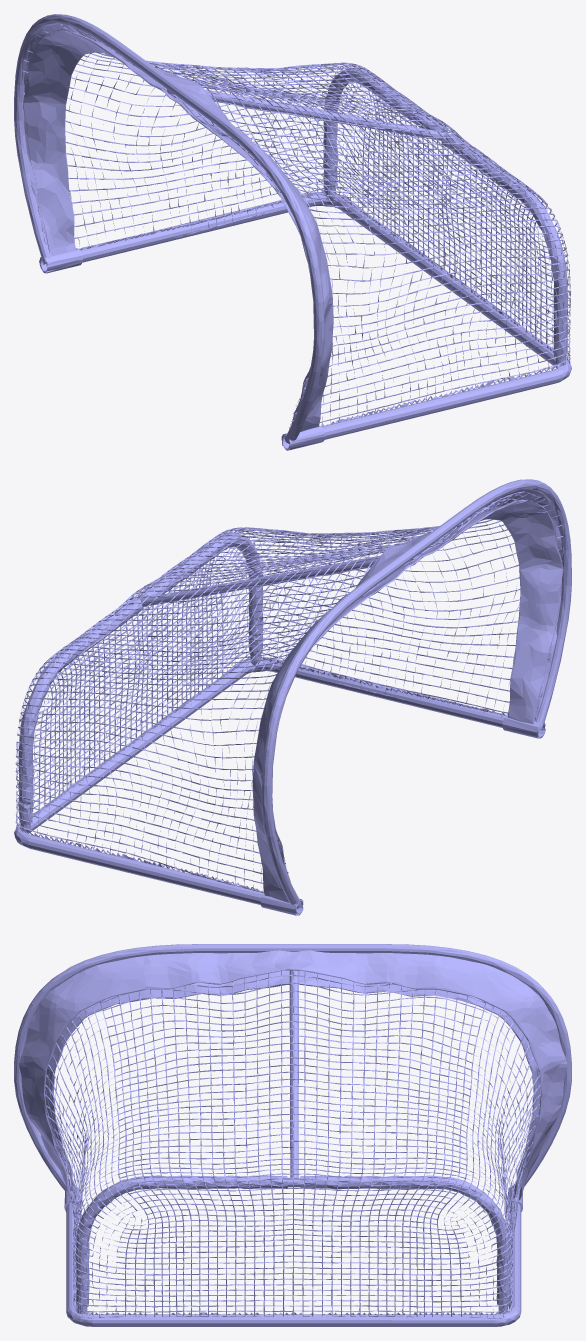
File: hockey_goal_robot_base_vis_1.dae
3 views of the same model, one above another, from view 1: azimuth 30°, elevation 25°; view 2: azimuth 150°, elevation 25°; view 3: azimuth 270°, elevation 25° (orthographic). The views are drawn at different scales.
Parts seen in each view (by area): view 1: Node_0x7fe693b21140; view 2: Node_0x7fe693b21140; view 3: Node_0x7fe693b21140.
Boxes of the visible parts, box(x1,y1,x2,y2) form: Node_0x7fe693b21140: box(14, 14, 571, 450); Node_0x7fe693b21140: box(14, 479, 571, 915); Node_0x7fe693b21140: box(14, 944, 571, 1326).
Bounding box in the file's own units: 0.1149 × 0.1052 × 0.2067.
